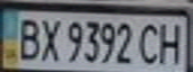2: (115, 19, 139, 65)
3: (81, 17, 100, 64)
9: (60, 16, 84, 63), (97, 18, 118, 65)
B: (12, 14, 42, 62)
C: (136, 19, 163, 65)
H: (154, 18, 190, 65)
X: (36, 15, 63, 62)
